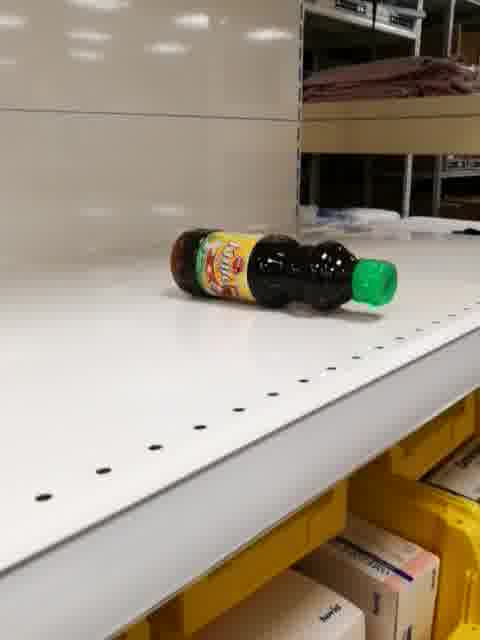cookingoil: (165, 224, 403, 316)
